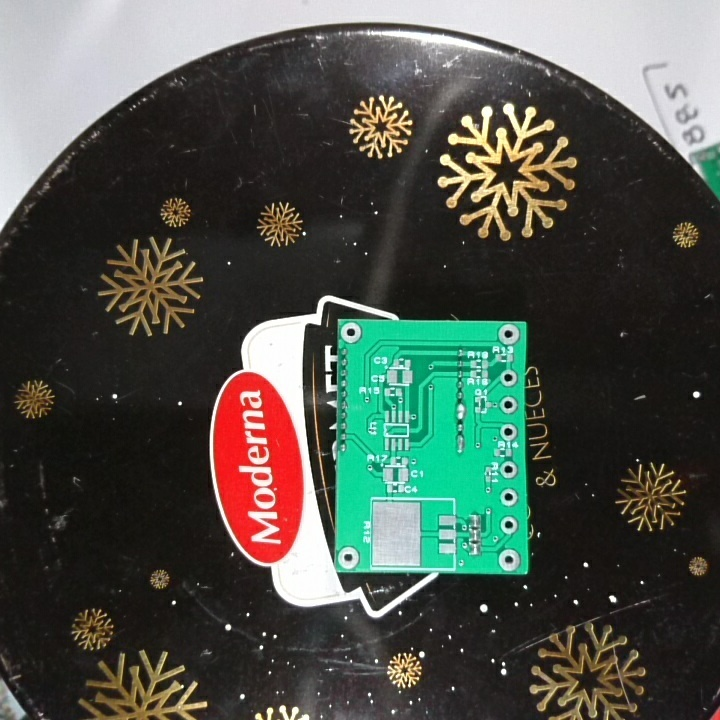F: (336, 543, 361, 572), (496, 546, 521, 573), (494, 324, 523, 347), (339, 320, 364, 346), (497, 513, 520, 538), (497, 460, 522, 480), (498, 422, 521, 443), (499, 487, 520, 510), (499, 369, 519, 389), (498, 397, 520, 415)
P: (454, 434, 468, 455), (454, 403, 468, 422)
